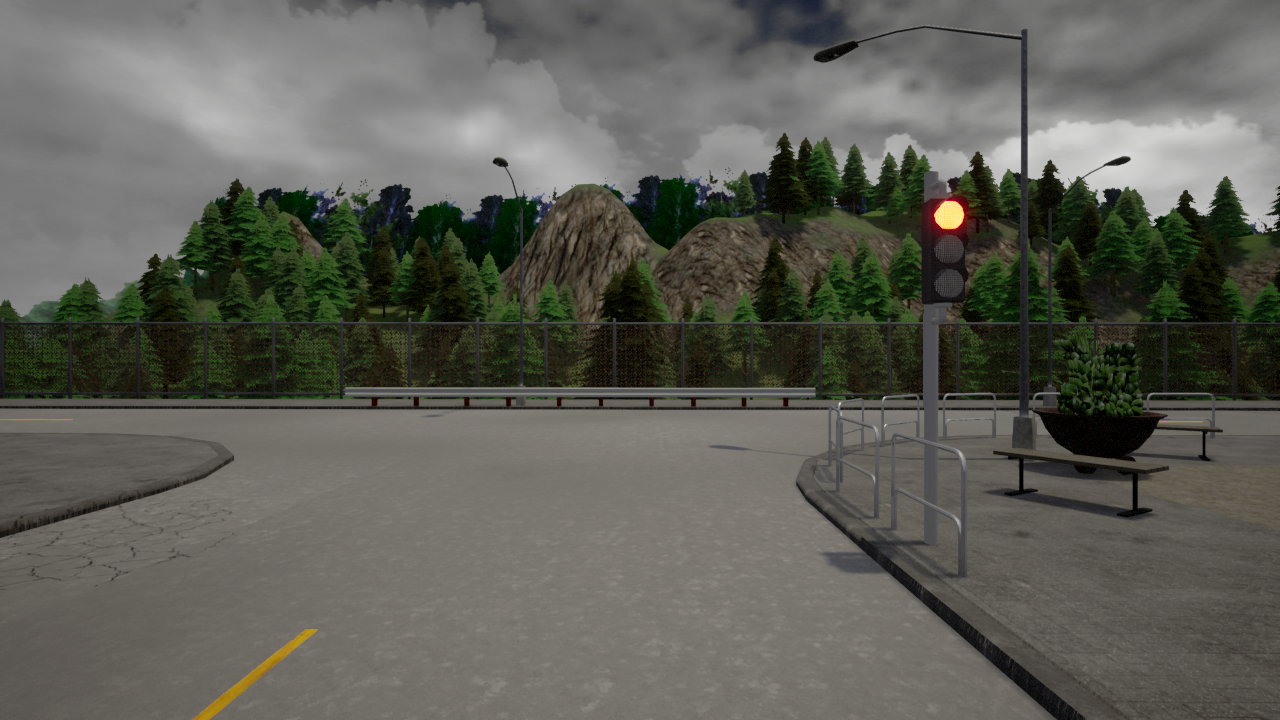red: (922, 192, 971, 304)
